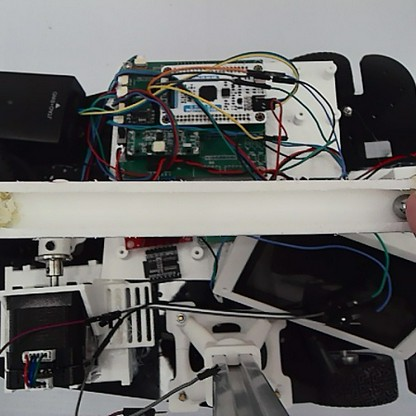ironball: (389, 190, 413, 220)
